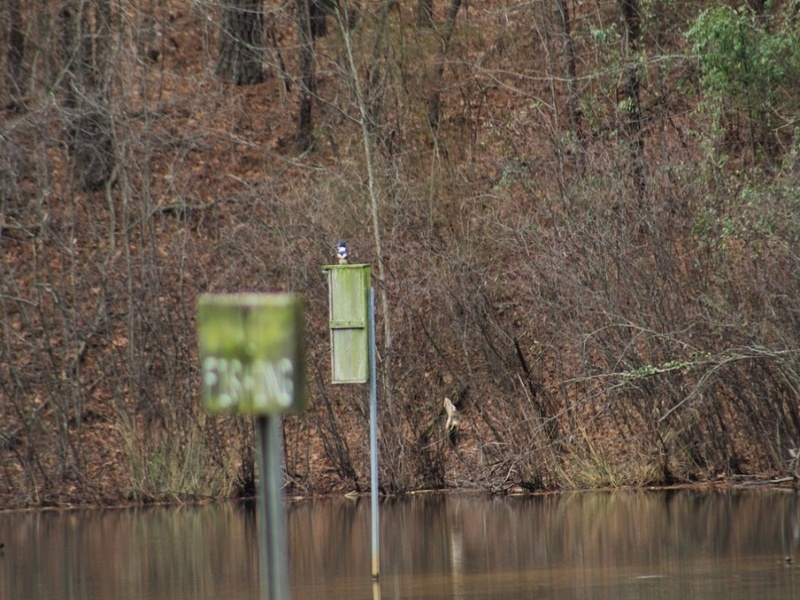kingfisher: (334, 244, 350, 265)
